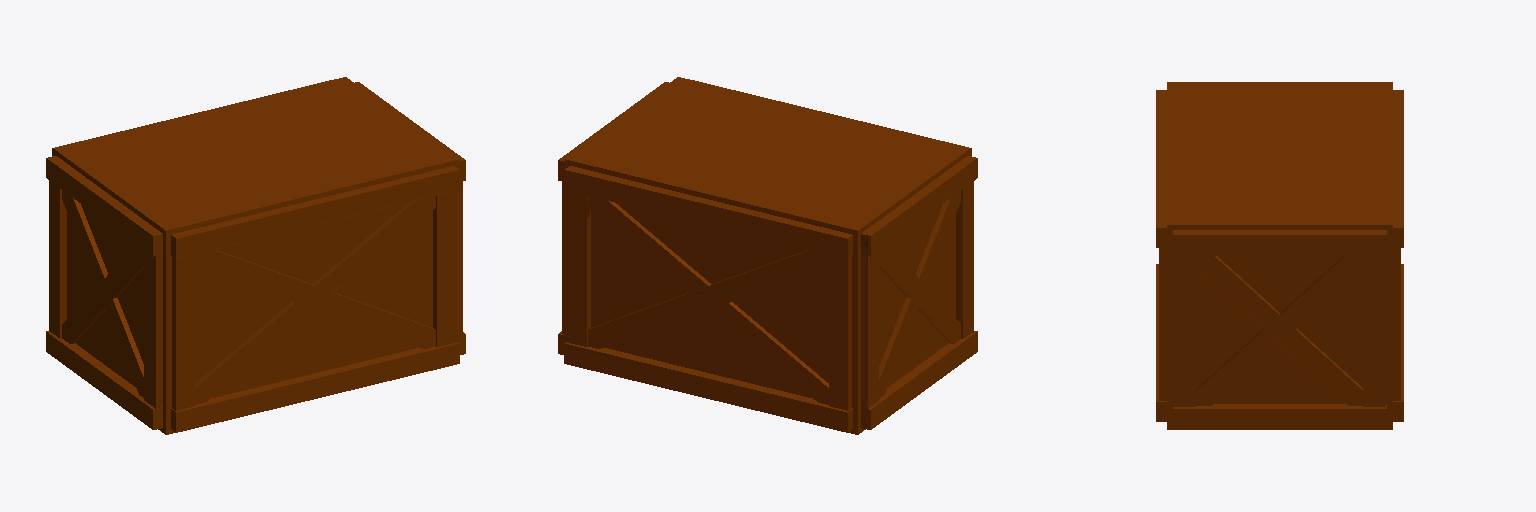
3 renders of one model, left to right at view 1: azimuth 30°, elevation 25°; view 2: azimuth 150°, elevation 25°; view 3: azimuth 270°, elevation 25°, orthographic.
Visible parts, largest first — view 1: 立方体; view 2: 立方体; view 3: 立方体.
Part boxes in pixels (bbox=[...]): 立方体: bbox=[46, 77, 465, 434]; 立方体: bbox=[558, 77, 977, 434]; 立方体: bbox=[1156, 82, 1403, 429].
Size of the model in its own units: 3.2 by 2 by 2.2.
1 materials, 1 textured.